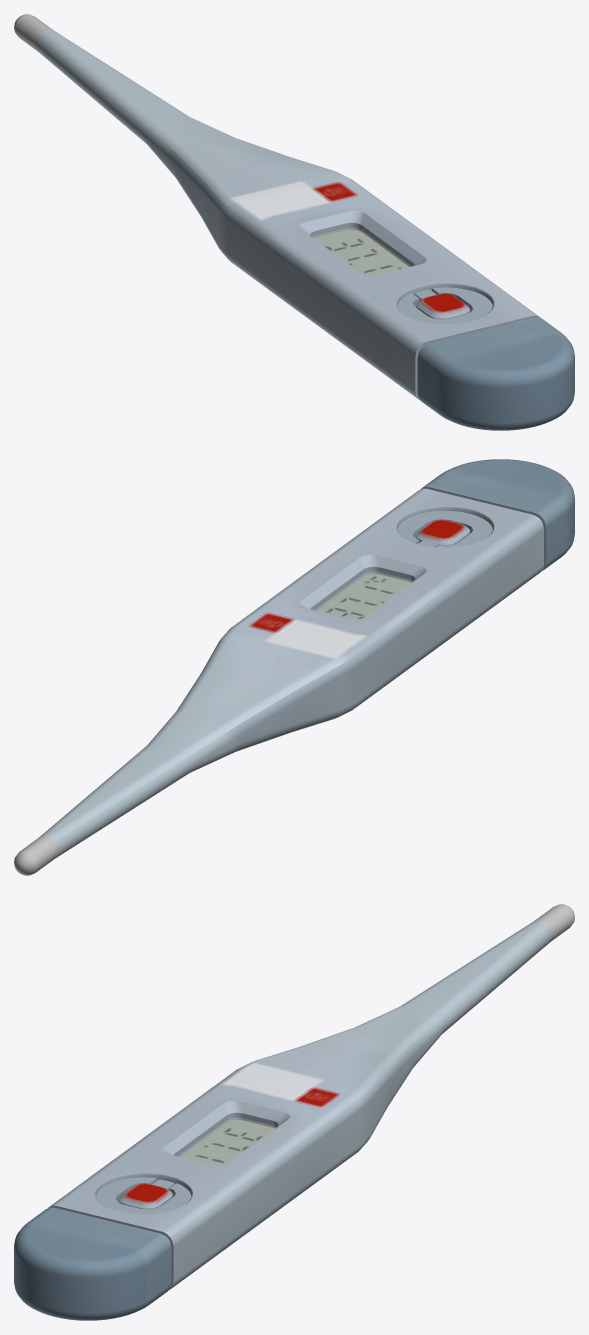
File: thermo.glb
3 views of the same model, one above another, from view 1: azimuth 30°, elevation 25°; view 2: azimuth 150°, elevation 25°; view 3: azimuth 330°, elevation 25° (orthographic).
Visible parts, largest first — view 1: fever thermometer; view 2: fever thermometer; view 3: fever thermometer.
Part boxes in pixels (x1=…): fever thermometer: x1=14, y1=14, x2=574, y2=430; fever thermometer: x1=14, y1=459, x2=574, y2=875; fever thermometer: x1=14, y1=904, x2=574, y2=1320.
Bounding box in the file's own units: 0.0196 × 0.00866 × 0.1364.
Materials: 4 (2 with a texture image).
